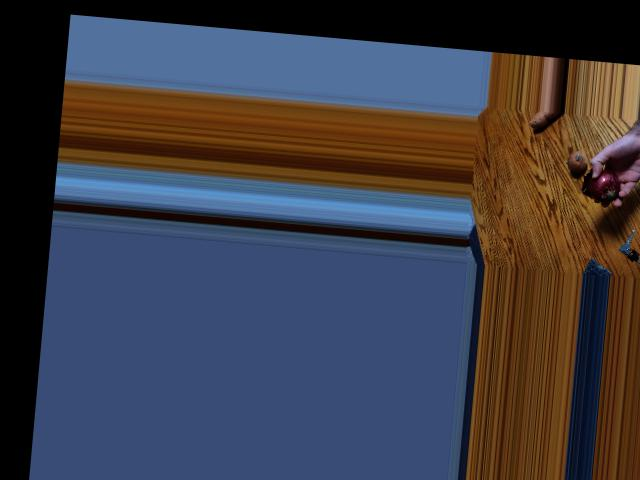onion: (564, 147, 589, 171)
